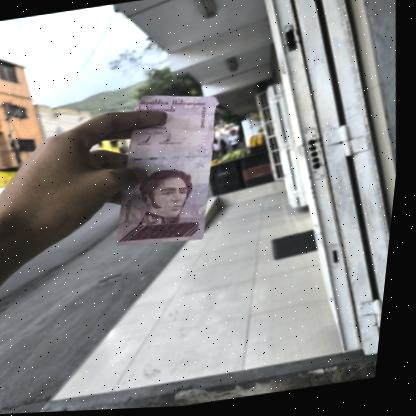one_hundred-front-vef: (104, 87, 235, 255)
